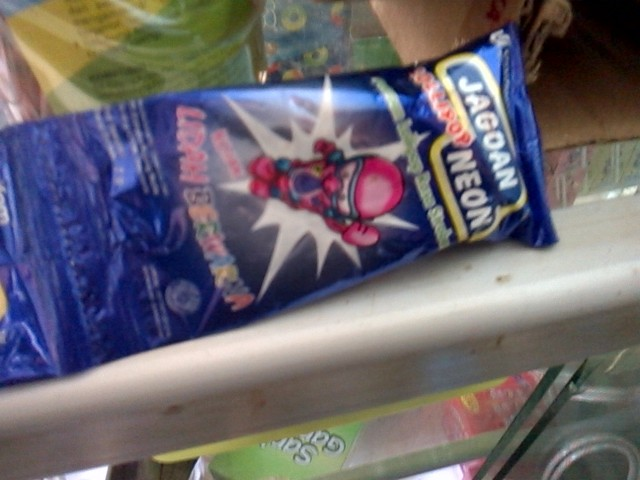jagoan neon: (41, 20, 560, 364)
